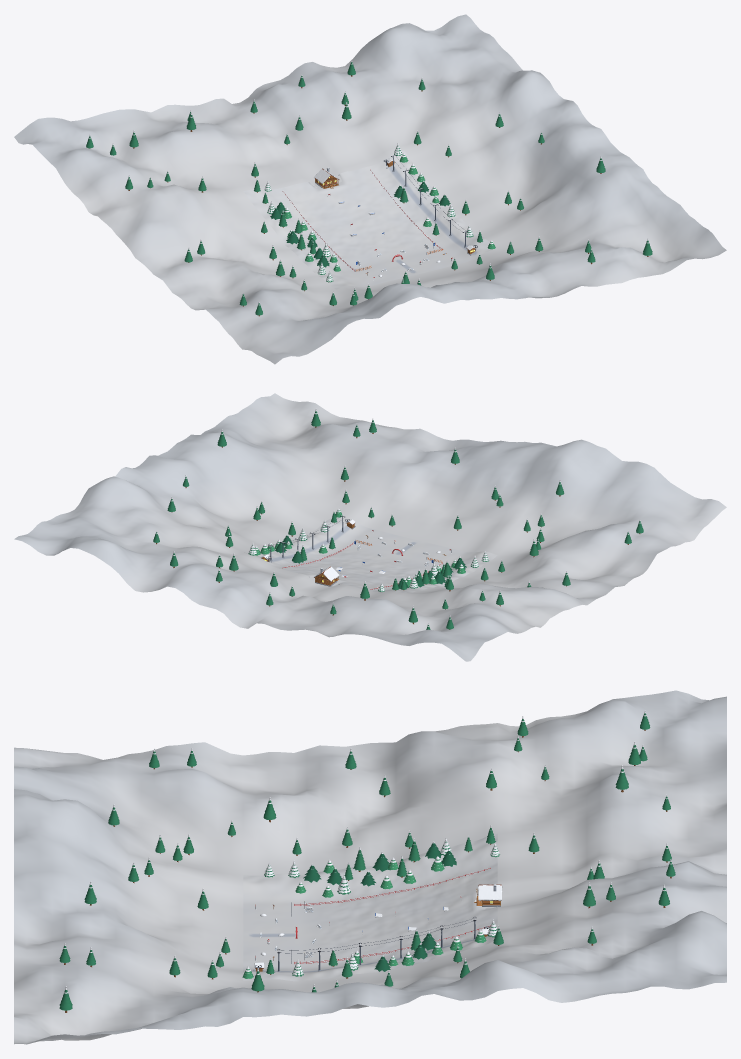
Rendered from slope_field.glb.
3 views of the same model, one above another, from view 1: azimuth 30°, elevation 25°; view 2: azimuth 150°, elevation 25°; view 3: azimuth 270°, elevation 25° (orthographic). The views are drawn at different scales.
Parts seen in each view (by area): view 1: backdrop_hills, terrain; view 2: backdrop_hills, terrain; view 3: backdrop_hills, terrain, wooden_cabin_01.
Part boxes in pixels (x1,y1,x2,y2): backdrop_hills: [14, 14, 726, 364]; terrain: [243, 150, 497, 289]; backdrop_hills: [14, 393, 726, 661]; terrain: [244, 517, 497, 592]; backdrop_hills: [14, 690, 726, 1044]; terrain: [243, 833, 497, 981]; wooden_cabin_01: [474, 884, 502, 906].
Size of the model in its own units: 280 by 52 by 280.
